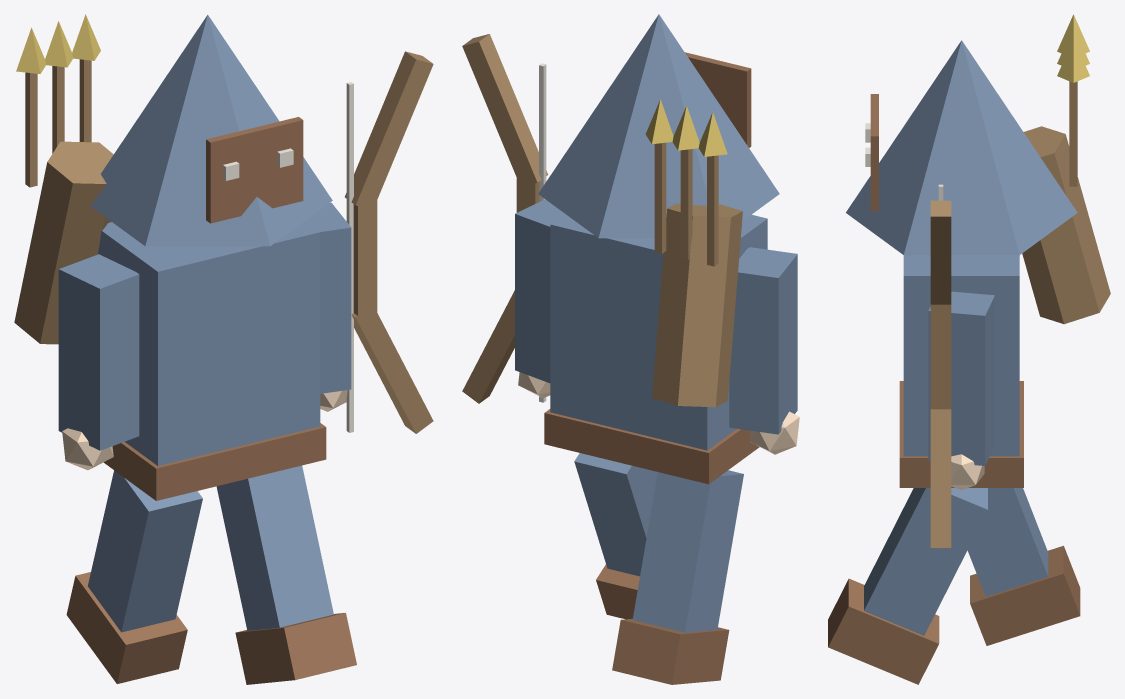
File: npcpose_archer_walk_04.glb
3 views of the same model, side by side, from view 1: azimuth 30°, elevation 25°; view 2: azimuth 150°, elevation 25°; view 3: azimuth 270°, elevation 25° (orthographic). The views are drawn at different scales.
Parts seen in each view (by area): view 1: npcpose; view 2: npcpose; view 3: npcpose.
Part boxes in pixels (bbox=[...]): npcpose: bbox=[14, 14, 433, 684]; npcpose: bbox=[462, 14, 799, 684]; npcpose: bbox=[828, 14, 1110, 684].
Size of the model in its own units: 0.9089 by 1.63 by 0.6824.
